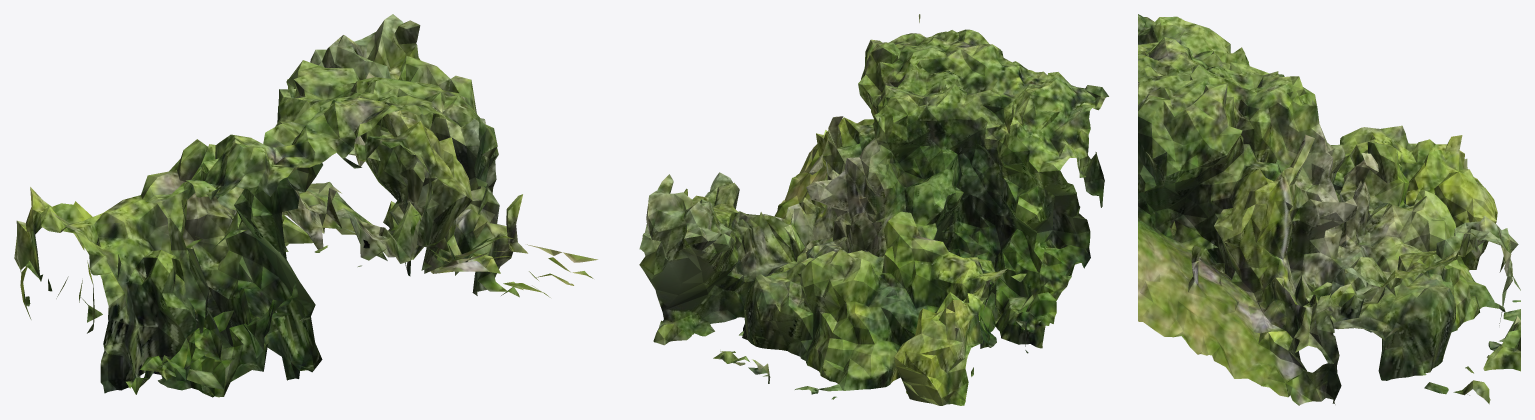
3 views of the same model, side by side, from view 1: azimuth 30°, elevation 25°; view 2: azimuth 150°, elevation 25°; view 3: azimuth 270°, elevation 25° (orthographic). The views are drawn at different scales.
Bounding box in the file's own units: 26.11 × 20 × 26.11.
Materials: 6 (6 with a texture image).
